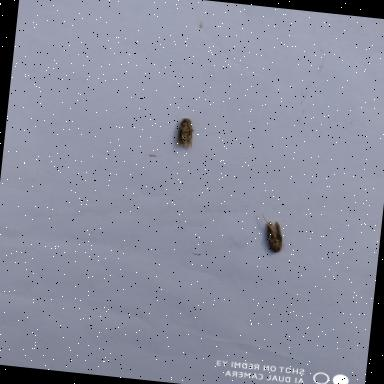pbw: (255, 211, 290, 255), (172, 116, 199, 154)
